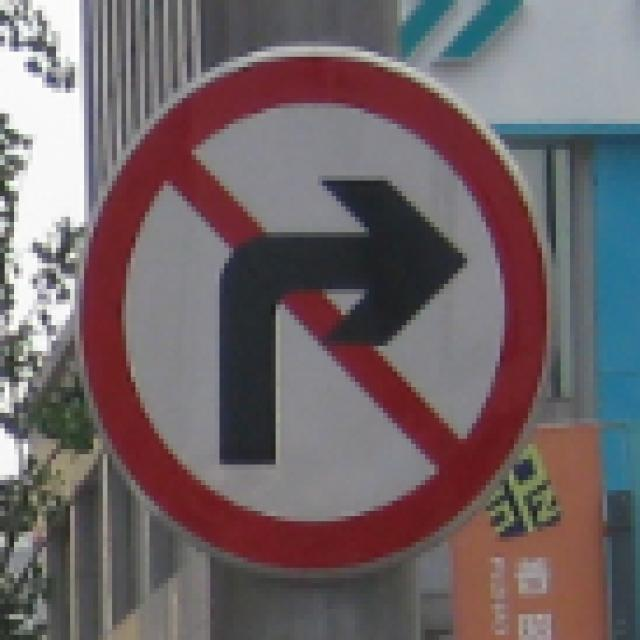Not that Direction: (85, 41, 549, 569)
